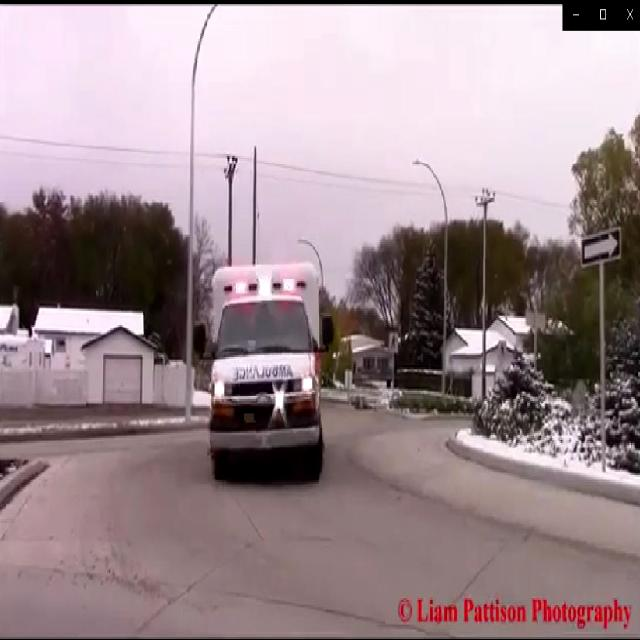emergency: (185, 258, 342, 496)
